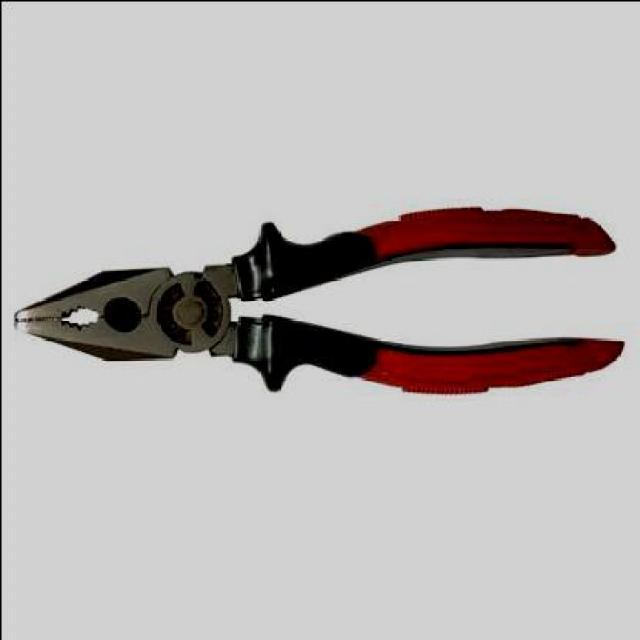pliers: (14, 202, 624, 396)
